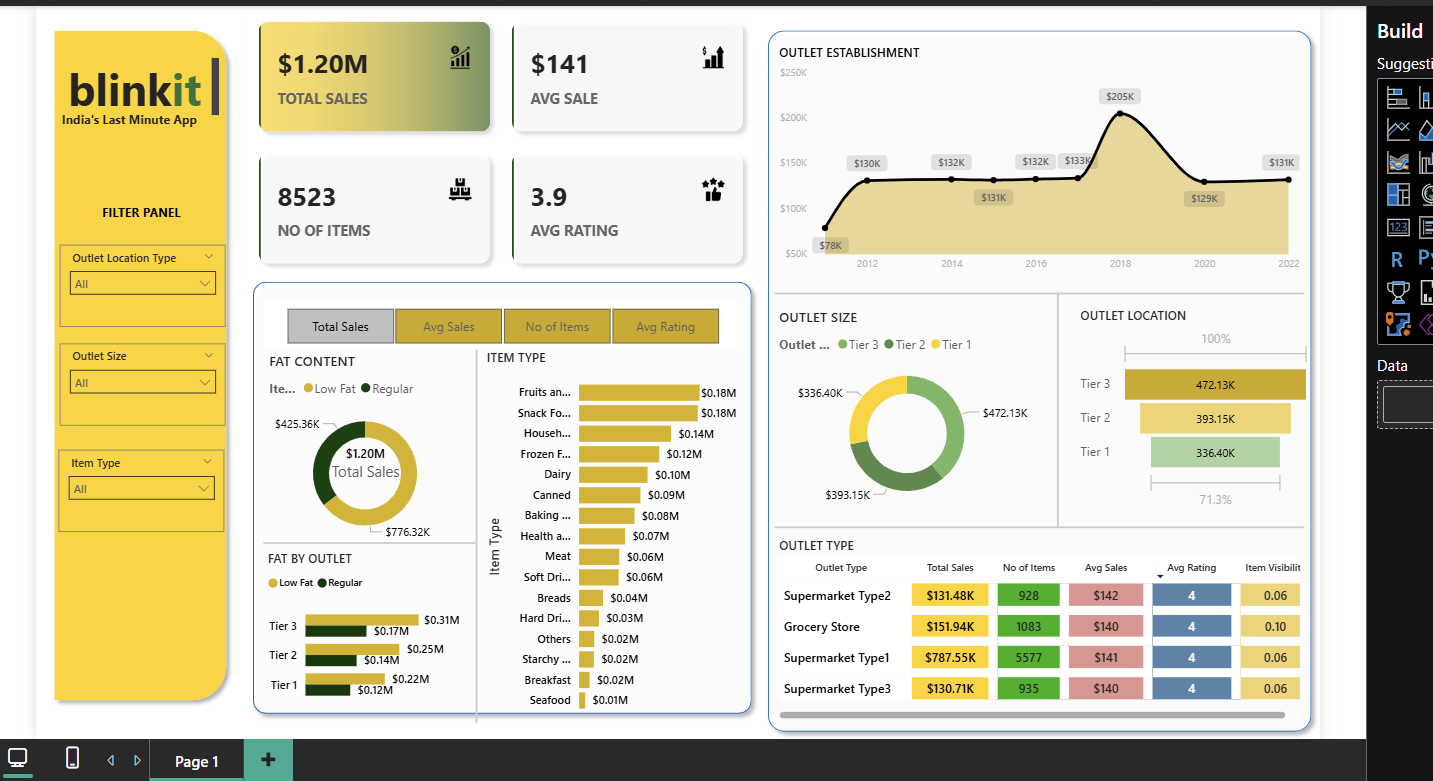

The dashboard page shown, as its layout file describes it:
{"tool":"powerbi","page":{"name":"Page 1","canvas":[1400,800],"ordinal":0},"visuals":[{"type":"shape","box":[10.9,17.7,205.9,748.5],"z":0},{"type":"textbox","box":[473.4,323.5,205.1,74.2],"z":1000},{"type":"textbox","box":[29.7,51.5,174.4,73.3],"z":2000},{"type":"textbox","box":[23.8,109,225.9,33.7],"z":3000},{"type":"cardVisual","fields":{"Data":["BlinkIT Grocery Data.Total Sales","BlinkIT Grocery Data.Avg Sales","BlinkIT Grocery Data.No of Items","BlinkIT Grocery Data.Avg Rating"]},"box":[226.3,0,563.1,298.6],"z":4000},{"type":"shape","box":[227.2,291.9,561.8,489.2],"z":5000},{"type":"slicer","fields":{"Values":["metrics.metrics"]},"box":[247.7,323.5,520.7,52.1],"z":6000},{"type":"donutChart","title":"FAT CONTENT","fields":{"Y":["BlinkIT Grocery Data.Total Sales"],"Category":["BlinkIT Grocery Data.Item Fat Content"]},"box":[249.6,375.9,219.1,217.6],"z":7000},{"type":"cardVisual","fields":{"Data":["BlinkIT Grocery Data.Total Sales"]},"box":[304.3,458,111.1,79.1],"z":8000},{"type":"clusteredBarChart","title":"FAT BY OUTLET","fields":{"Y":["BlinkIT Grocery Data.Total Sales"],"Category":["BlinkIT Grocery Data.Outlet Location Type"],"Series":["BlinkIT Grocery Data.Item Fat Content"]},"box":[248,593.5,219.1,178],"z":9000},{"type":"shape","box":[248,578.3,231.3,15.2],"z":10000},{"type":"shape","box":[460.8,375.6,39.5,407.1],"z":11000},{"type":"barChart","title":"ITEM TYPE","fields":{"Y":["BlinkIT Grocery Data.Total Sales"],"Category":["BlinkIT Grocery Data.Item Type"]},"box":[486,374,282.5,407.1],"z":12000},{"type":"shape","box":[789,17.4,610.7,782.7],"z":13000},{"type":"lineChart","title":"OUTLET ESTABLISHMENT","fields":{"Category":["BlinkIT Grocery Data.Outlet Establishment Year"],"Y":["BlinkIT Grocery Data.Total Sales"]},"box":[806.4,41,577.6,257.2],"z":14000},{"type":"shape","box":[806.4,298.2,577.6,30],"z":15000},{"type":"donutChart","title":"OUTLET SIZE","fields":{"Category":["BlinkIT Grocery Data.Outlet Location Type"],"Y":["BlinkIT Grocery Data.Total Sales"]},"box":[806.4,328.2,288.8,225.7],"z":16000},{"type":"shape","box":[1094.8,313.6,39.5,254.9],"z":17000},{"type":"funnel","title":"OUTLET LOCATION","fields":{"Category":["BlinkIT Grocery Data.Outlet Location Type"],"Y":["Sum(BlinkIT Grocery Data.Sales)"]},"box":[1134.6,328.2,261,225],"z":18000},{"type":"shape","box":[806.4,553.9,577.6,30],"z":19000},{"type":"pivotTable","title":"OUTLET TYPE","fields":{"Rows":["BlinkIT Grocery Data.Outlet Type"],"Values":["BlinkIT Grocery Data.Total Sales","BlinkIT Grocery Data.No of Items","BlinkIT Grocery Data.Avg Sales","BlinkIT Grocery Data.Avg Rating","Avg(BlinkIT Grocery Data.Item Visibility)"]},"box":[806.4,579.1,577.6,203.6],"z":20000},{"type":"slicer","fields":{"Values":["BlinkIT Grocery Data.Outlet Location Type"]},"box":[25.9,260.2,181.1,89.8],"z":21000},{"type":"slicer","fields":{"Values":["BlinkIT Grocery Data.Outlet Size"]},"box":[25.9,368.3,181.1,89.8],"z":22000},{"type":"slicer","fields":{"Values":["BlinkIT Grocery Data.Item Type"]},"box":[24.3,483.9,181.1,89.8],"z":23000},{"type":"textbox","box":[27.3,211.3,174.5,30],"z":24000}]}

Visuals, with their boxes on the page's 1400x800 design canvas (x1, y1, x2, y2). These are canvas units, not pixel positions in the 1433x781 screenshot, which may show the page scaled, cropped or inside an application window:
shape: x1=11, y1=18, x2=217, y2=766
textbox: x1=473, y1=324, x2=678, y2=398
textbox: x1=30, y1=52, x2=204, y2=125
textbox: x1=24, y1=109, x2=250, y2=143
cardVisual - BlinkIT Grocery Data.Total Sales x BlinkIT Grocery Data.Avg Sales: x1=226, y1=0, x2=789, y2=299
shape: x1=227, y1=292, x2=789, y2=781
slicer - metrics.metrics: x1=248, y1=324, x2=768, y2=376
"FAT CONTENT" donutChart: x1=250, y1=376, x2=469, y2=594
cardVisual - BlinkIT Grocery Data.Total Sales: x1=304, y1=458, x2=415, y2=537
"FAT BY OUTLET" clusteredBarChart: x1=248, y1=594, x2=467, y2=772
shape: x1=248, y1=578, x2=479, y2=594
shape: x1=461, y1=376, x2=500, y2=783
"ITEM TYPE" barChart: x1=486, y1=374, x2=768, y2=781
shape: x1=789, y1=17, x2=1400, y2=800
"OUTLET ESTABLISHMENT" lineChart: x1=806, y1=41, x2=1384, y2=298
shape: x1=806, y1=298, x2=1384, y2=328
"OUTLET SIZE" donutChart: x1=806, y1=328, x2=1095, y2=554
shape: x1=1095, y1=314, x2=1134, y2=568
"OUTLET LOCATION" funnel: x1=1135, y1=328, x2=1396, y2=553
shape: x1=806, y1=554, x2=1384, y2=584
"OUTLET TYPE" pivotTable: x1=806, y1=579, x2=1384, y2=783
slicer - BlinkIT Grocery Data.Outlet Location Type: x1=26, y1=260, x2=207, y2=350
slicer - BlinkIT Grocery Data.Outlet Size: x1=26, y1=368, x2=207, y2=458
slicer - BlinkIT Grocery Data.Item Type: x1=24, y1=484, x2=205, y2=574
textbox: x1=27, y1=211, x2=202, y2=241
